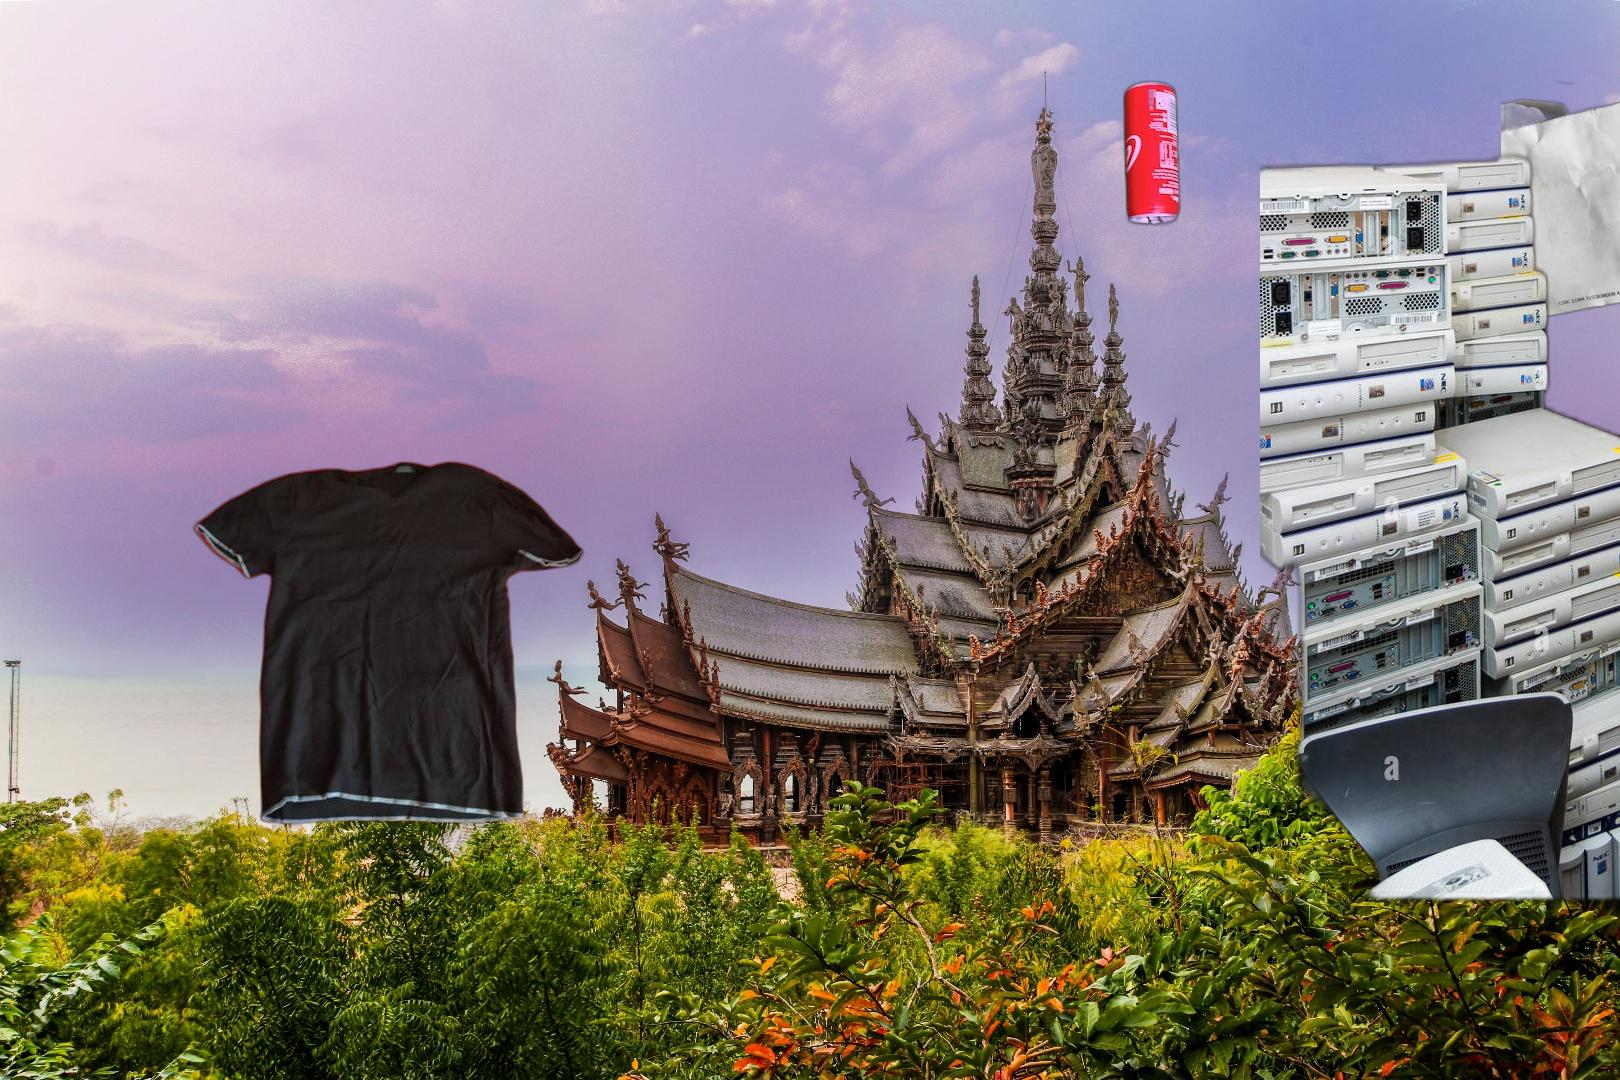clothes: (189, 458, 588, 828)
metal-cans: (1120, 75, 1185, 231)
paper: (1501, 30, 1620, 321)
trashbox-cardboard: (1260, 143, 1620, 914)
